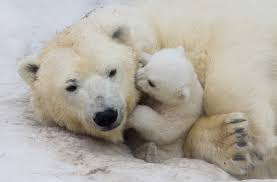PolarBear: (18, 0, 277, 182)
